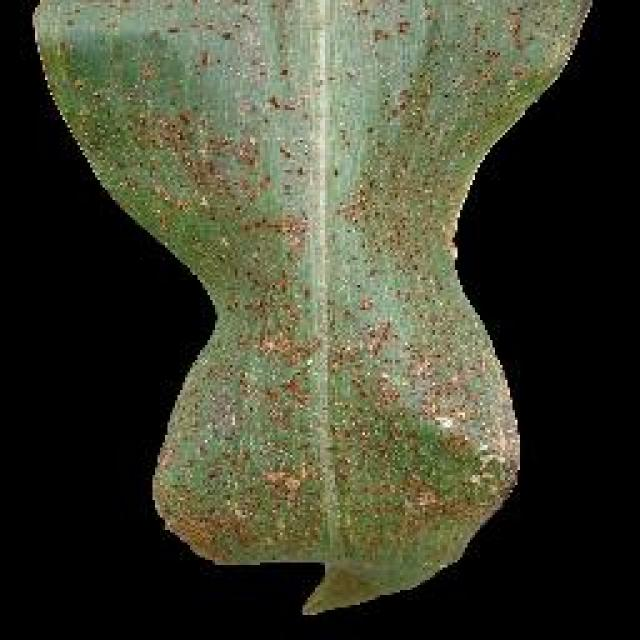Corn Common Rust: (103, 40, 552, 568)
